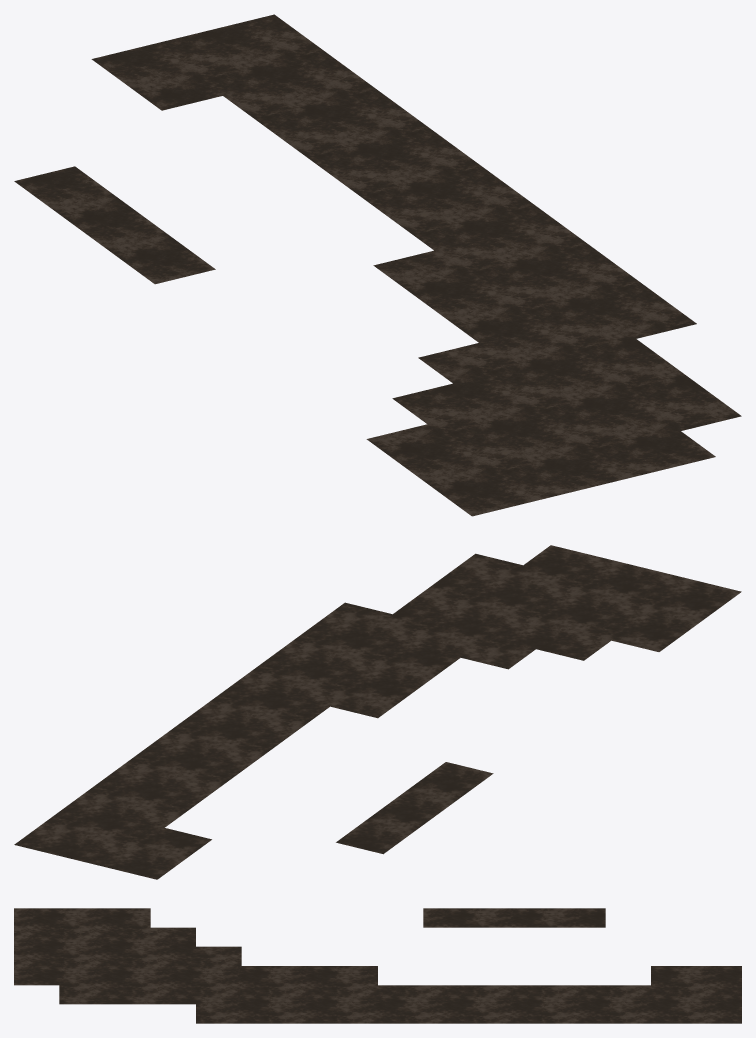
Rendered from floor_3_-8.glb.
3 views of the same model, one above another, from view 1: azimuth 30°, elevation 25°; view 2: azimuth 150°, elevation 25°; view 3: azimuth 270°, elevation 25° (orthographic). The views are drawn at different scales.
Visible parts, largest first — view 1: floor_3_-8; view 2: floor_3_-8; view 3: floor_3_-8.
Part boxes in pixels (box(x1,y1,x2,y2)): floor_3_-8: box(14, 14, 741, 516); floor_3_-8: box(14, 545, 741, 879); floor_3_-8: box(14, 908, 741, 1023).
Size of the model in its own units: 24 by 0 by 64.
Materials: 1 (1 with a texture image).
